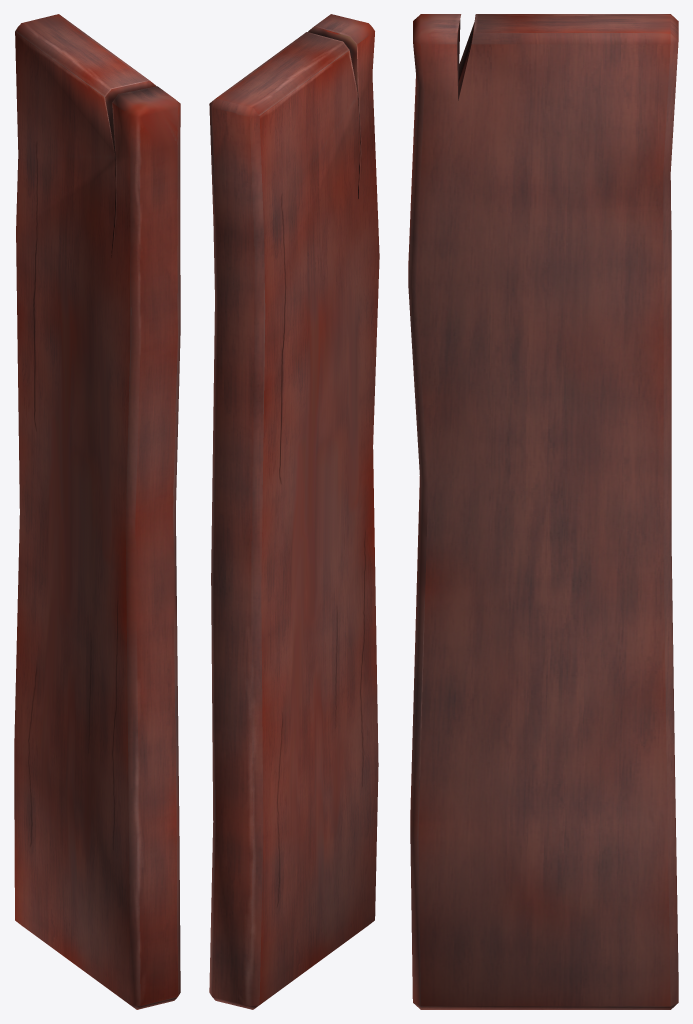
Rendered from Plank.dae.
3 renders of one model, left to right at view 1: azimuth 30°, elevation 25°; view 2: azimuth 150°, elevation 25°; view 3: azimuth 270°, elevation 25°, orthographic. The views are drawn at different scales.
Parts seen in each view (by area): view 1: Cube; view 2: Cube; view 3: Cube.
Part boxes in pixels (x1,y1,x2,y2): Cube: [14, 14, 180, 1009]; Cube: [209, 14, 379, 1009]; Cube: [408, 14, 678, 1009].
Size of the model in its own units: 0.628 by 2.51 by 10.
